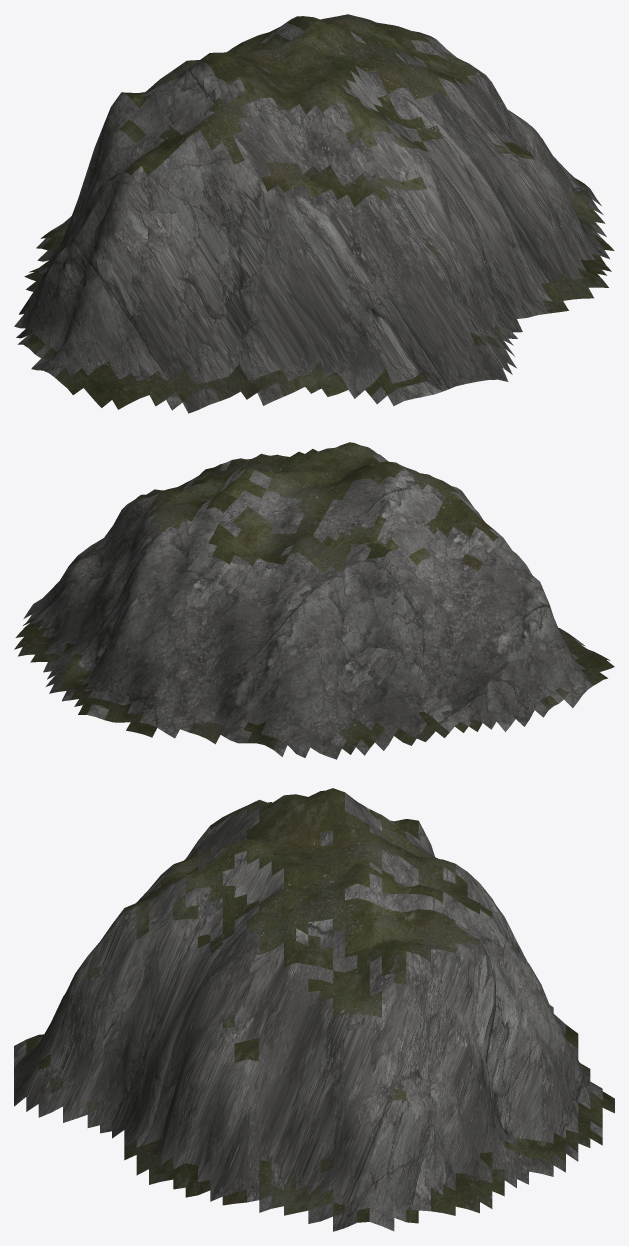
Rendered from border_shelf_a_v5_summer.glb.
3 views of the same model, one above another, from view 1: azimuth 30°, elevation 25°; view 2: azimuth 150°, elevation 25°; view 3: azimuth 270°, elevation 25° (orthographic). The views are drawn at different scales.
Parts seen in each view (by area): view 1: border_shelf_a; view 2: border_shelf_a; view 3: border_shelf_a.
Boxes of the visible parts, bbox=[...] form: border_shelf_a: bbox=[14, 14, 614, 413]; border_shelf_a: bbox=[14, 442, 614, 759]; border_shelf_a: bbox=[14, 788, 614, 1231].
Size of the model in its own units: 1.04 by 0.4124 by 0.8909.
2 materials, 2 textured.
